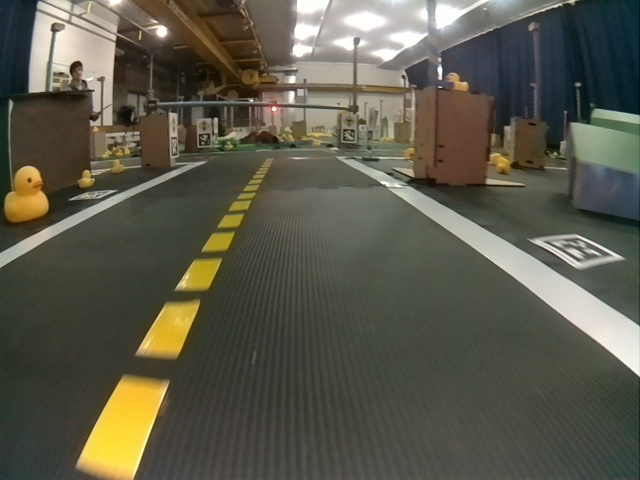Duckie: (4, 168, 46, 217), (446, 74, 469, 91), (77, 169, 94, 187), (497, 158, 511, 174), (110, 160, 124, 172), (490, 153, 502, 163), (406, 148, 414, 160), (225, 142, 233, 148)
Intersection sign: (342, 115, 357, 128)
QR code: (530, 234, 612, 268), (69, 190, 115, 200), (341, 128, 356, 143), (170, 140, 179, 158), (198, 134, 211, 146)
Signal sign: (198, 118, 211, 132), (169, 115, 177, 135)
Traffic light: (273, 101, 279, 109)
